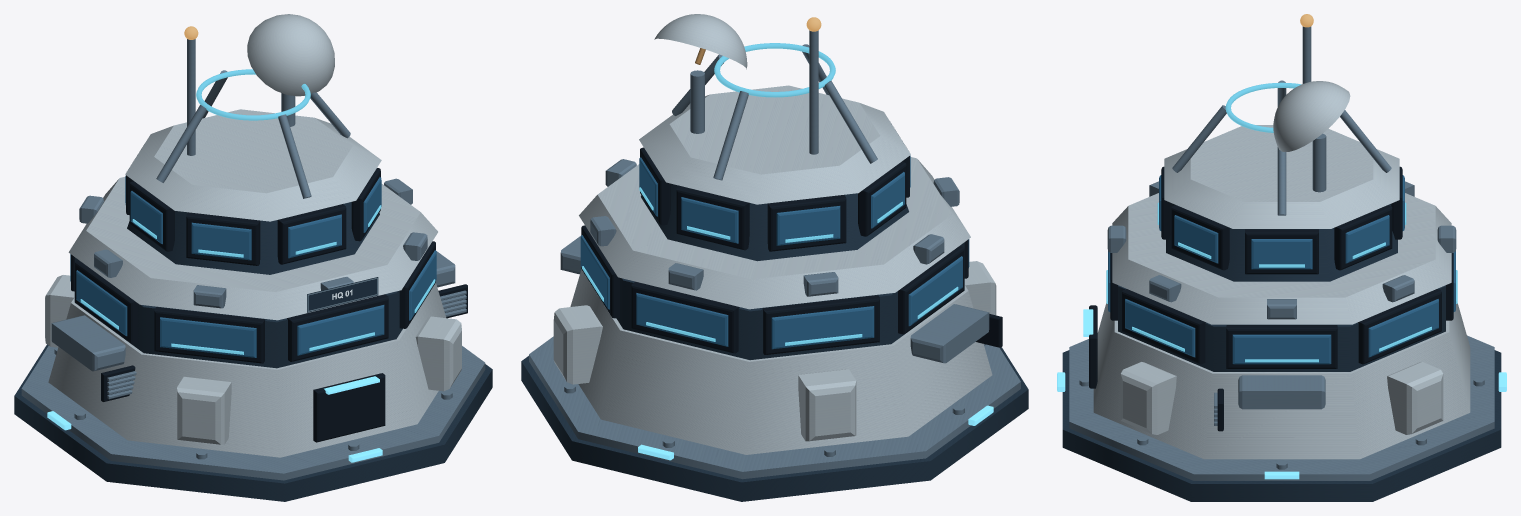
File: command.glb
The picture shows the model from 3 angles, left to right: view 1: azimuth 30°, elevation 25°; view 2: azimuth 150°, elevation 25°; view 3: azimuth 270°, elevation 25°; orthographic projection. The views are drawn at different scales.
Visible parts, largest first — view 1: Ceramic titanium armor (×2), Brushed titanium, Graphite composite, Carbon machinery, Blue optical glass, Coolant conduit (×2), Identification HQ 01, Status light; view 2: Ceramic titanium armor (×2), Brushed titanium (×2), Graphite composite, Blue optical glass, Carbon machinery, Coolant conduit (×2), Status light; view 3: Ceramic titanium armor (×2), Brushed titanium (×2), Graphite composite, Carbon machinery, Blue optical glass, Coolant conduit (×2), Status light.
Part boxes in pixels (x1,y1,x2,y2): Ceramic titanium armor (×2): (45,14,461,457); Brushed titanium: (21,39,485,480); Graphite composite: (14,202,492,501); Carbon machinery: (71,168,467,442); Blue optical glass: (70,175,436,357); Coolant conduit (×2): (80,69,435,354); Identification HQ 01: (307,277,378,312); Status light: (47,376,382,462); Ceramic titanium armor (×2): (553,14,996,454); Brushed titanium (×2): (529,30,1020,479); Graphite composite: (521,183,1028,501); Blue optical glass: (580,155,969,349); Carbon machinery: (581,147,1002,354); Coolant conduit (×2): (582,43,958,345); Status light: (638,405,993,460); Ceramic titanium armor (×2): (1093,81,1470,459); Brushed titanium (×2): (1069,26,1494,480); Graphite composite: (1062,204,1501,501); Carbon machinery: (1089,166,1453,431); Blue optical glass: (1108,175,1455,364); Coolant conduit (×2): (1106,82,1457,362); Status light: (1057,309,1506,479).
Bounding box in the file's own units: 3.6 × 3.28 × 3.6.
Materials: 10 (6 with a texture image).
